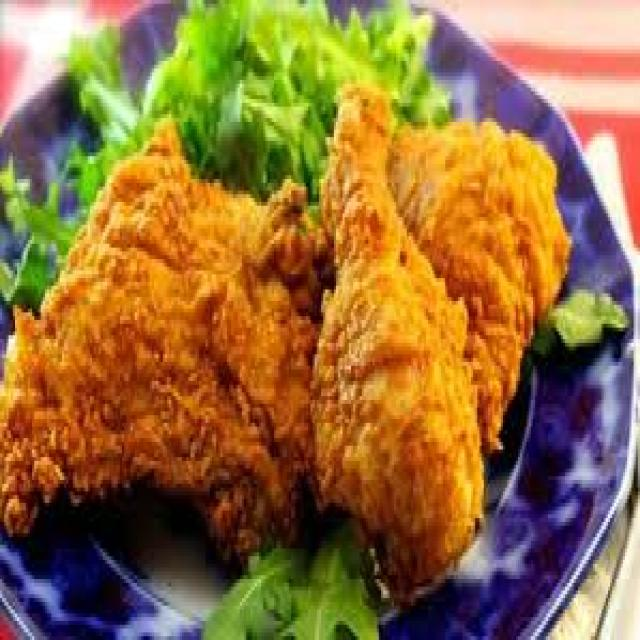Frango: (2, 122, 336, 556), (308, 88, 488, 586), (388, 122, 574, 457)
